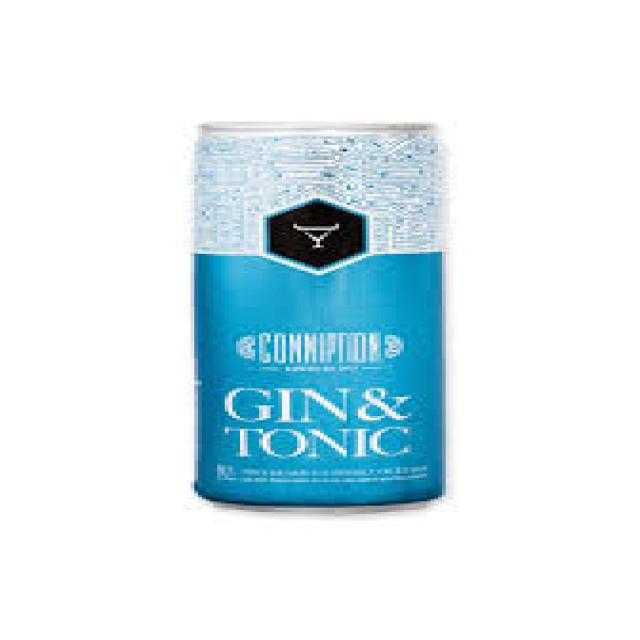Cans: (164, 109, 468, 516)
